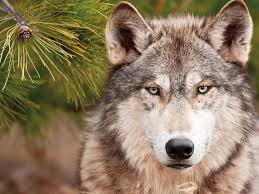Lobo: (67, 1, 259, 181)
